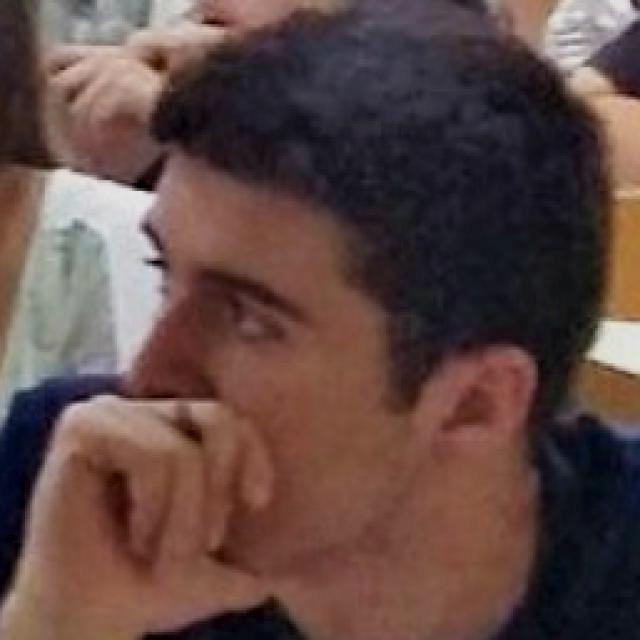Looking away: (124, 146, 427, 566)
